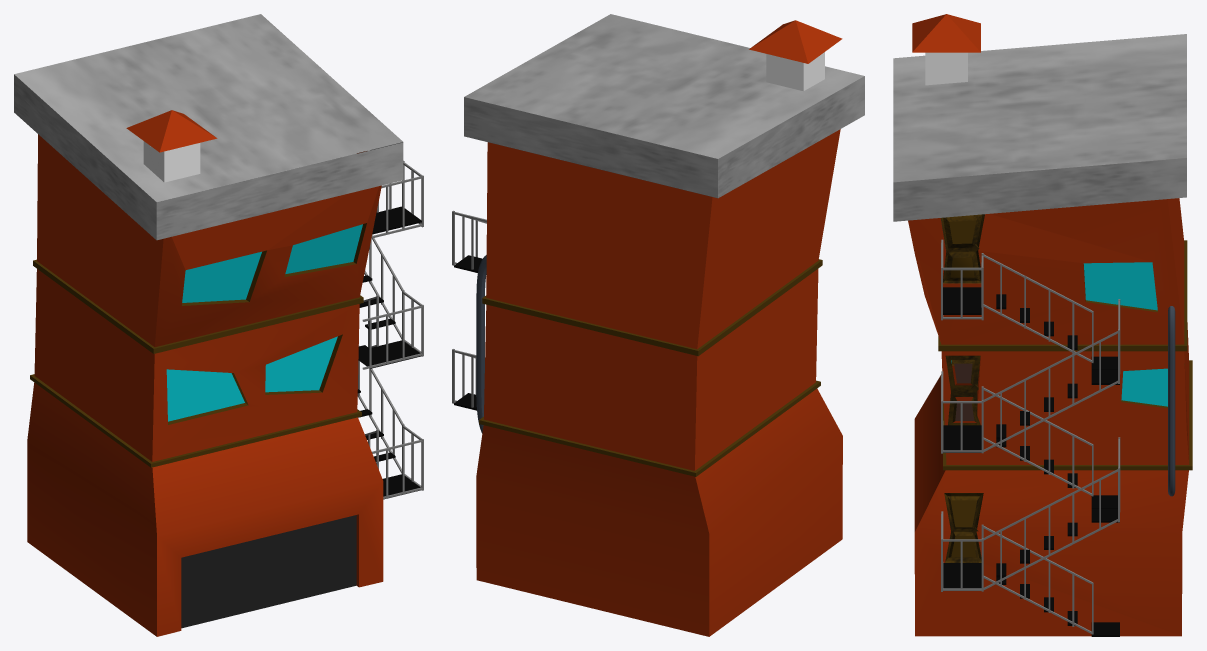
The model's file is PredioTorto-VermelhoBarrentoLOD0.fbx.
3 renders of one model, left to right at view 1: azimuth 30°, elevation 25°; view 2: azimuth 150°, elevation 25°; view 3: azimuth 270°, elevation 25°, orthographic. The views are drawn at different scales.
Visible parts, largest first — view 1: Predio3Andares; view 2: Predio3Andares; view 3: Predio3Andares.
Part boxes in pixels (<box>): Predio3Andares: <box>14,14,423,636</box>; Predio3Andares: <box>452,14,864,636</box>; Predio3Andares: <box>893,14,1192,636</box>.
Size of the model in its own units: 1035 by 1727 by 895.
